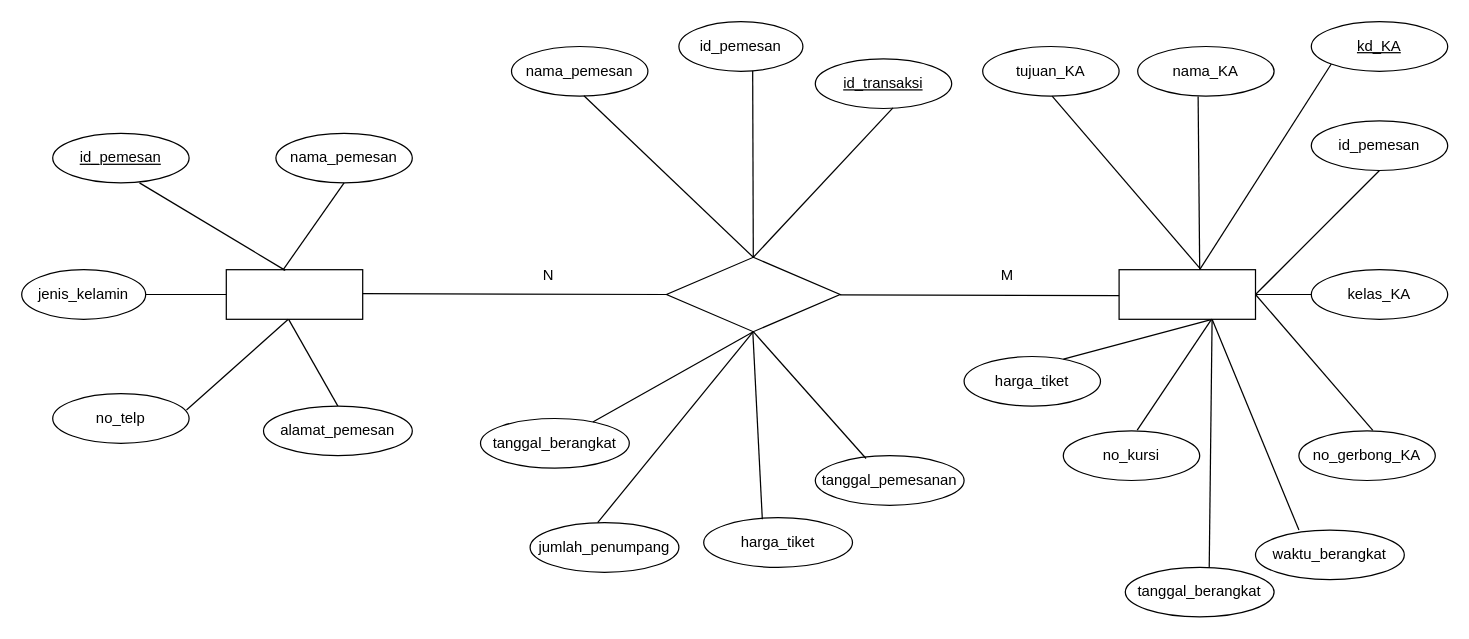
The diagram is 1469 pixels wide and 639 high, and some of its shapes have lost their labels. The box of each missing label's shape, as (x1, y1, x2, y2) in pixels:
PEMESAN: (225, 268, 363, 319)
TIKET_KERETA: (1118, 268, 1256, 319)
TRANSAKSI TIKET: (665, 256, 840, 332)
